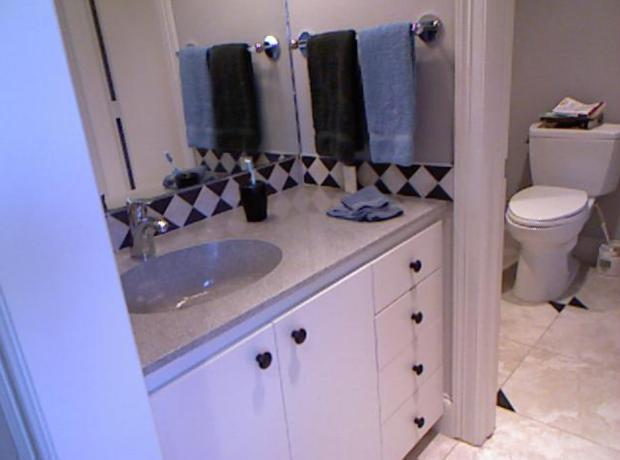Lavamanos: (95, 195, 290, 322)
Sanitario: (498, 106, 616, 303)
